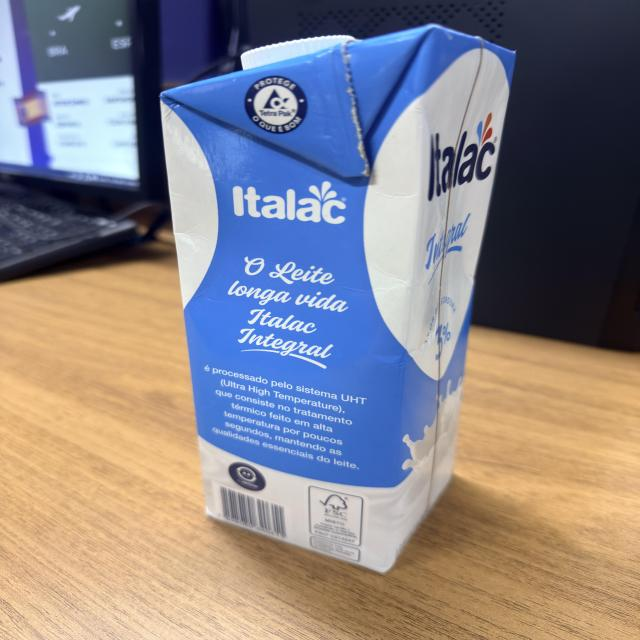Caixa de Leite: (157, 26, 516, 577)
